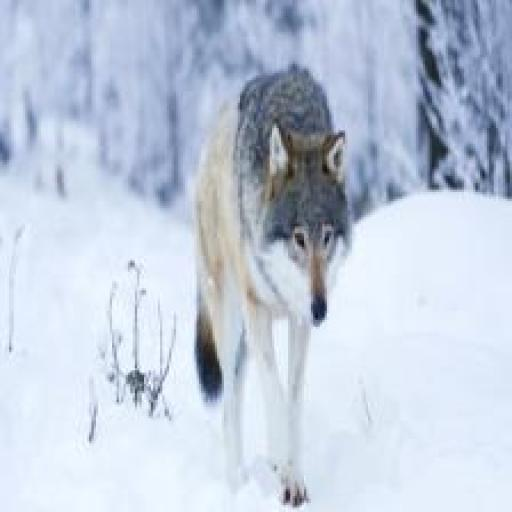wolf: (169, 41, 400, 512)
